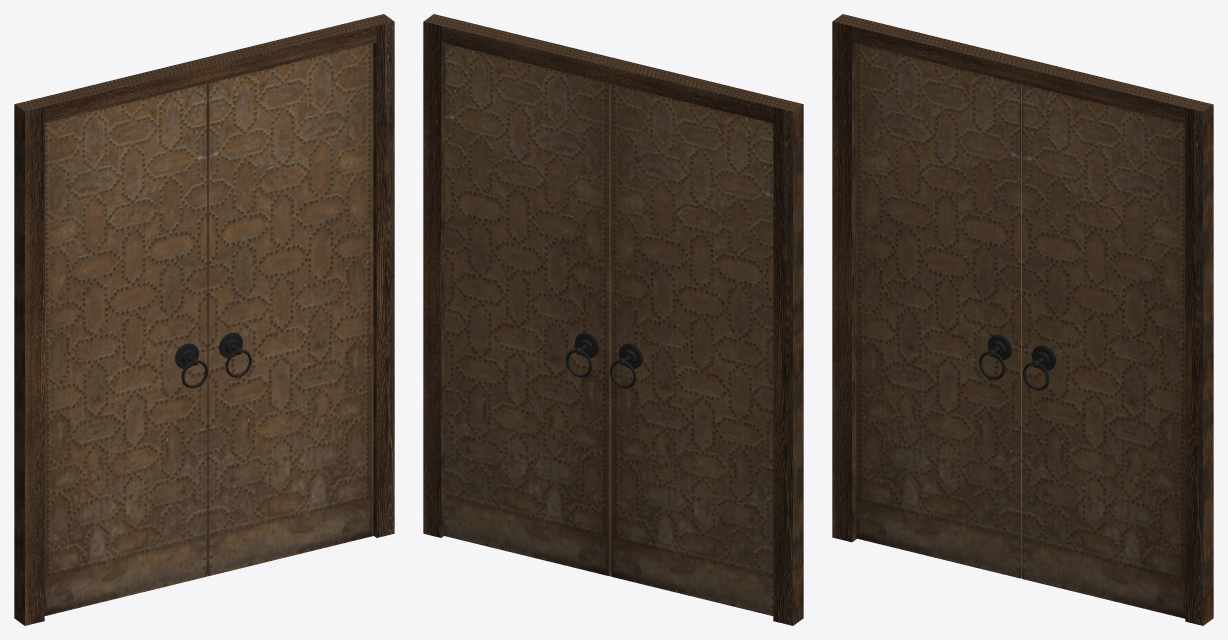
The model's file is old door8.FBX.
3 renders of one model, left to right at view 1: azimuth 30°, elevation 25°; view 2: azimuth 150°, elevation 25°; view 3: azimuth 330°, elevation 25°, orthographic.
Visible parts, largest first — view 1: Door8 A, Door8 B, old door8; view 2: Door8 A, Door8 B, old door8; view 3: Door8 B, Door8 A, old door8.
Part boxes in pixels (x1=…): Door8 A: x1=207, y1=43, x2=373, y2=576; Door8 B: x1=44, y1=84, x2=207, y2=615; old door8: x1=14, y1=14, x2=394, y2=625; Door8 A: x1=444, y1=43, x2=610, y2=576; Door8 B: x1=610, y1=84, x2=773, y2=615; old door8: x1=423, y1=14, x2=803, y2=625; Door8 B: x1=855, y1=44, x2=1021, y2=578; Door8 A: x1=1022, y1=84, x2=1185, y2=618; old door8: x1=832, y1=14, x2=1213, y2=625.
Bounding box in the file's own units: 1565 × 189 × 2080.
